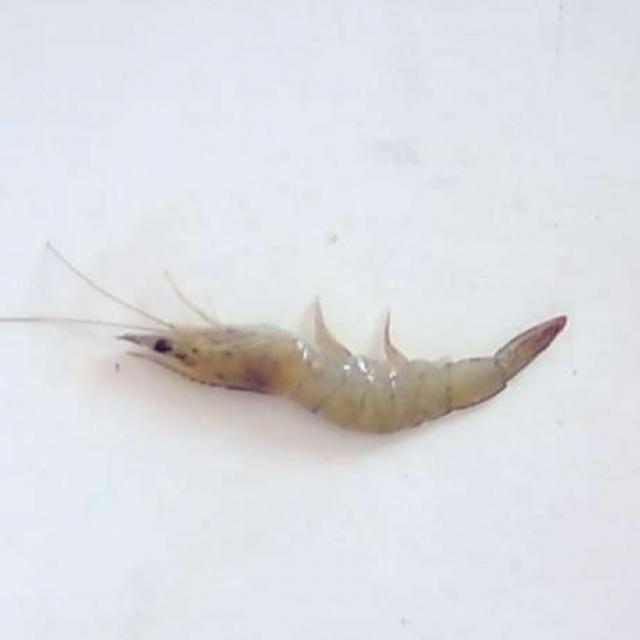shrimp: (119, 303, 567, 432)
